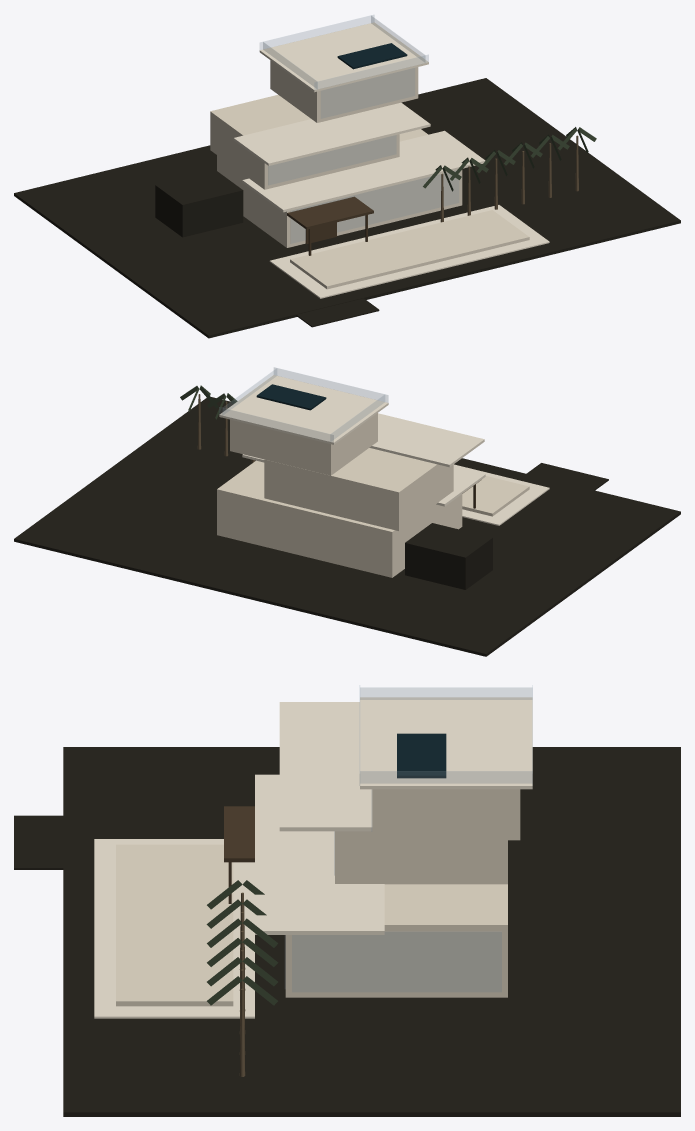
The model's file is velora-sky-palace-webgl.glb.
The picture shows the model from 3 angles, top to bottom: view 1: azimuth 30°, elevation 25°; view 2: azimuth 150°, elevation 25°; view 3: azimuth 270°, elevation 25°; orthographic projection. The views are drawn at different scales.
Visible parts, largest first — view 1: Site, Pool-Rim, Volume-02, Volume-01, Terrace-01, Terrace-02, Rooftop-Deck, Volume-03, Garage, Pool-Deck, Glass-Front-01, Glass-Front-03 (+6 smaller); view 2: Site, Volume-01, Volume-02, Rooftop-Deck, Volume-03, Garage, Terrace-02, Pool-Rim, Pool-Deck, Driveway, Rooftop-Pool, Rooftop-Railing-Rear (+3 smaller); view 3: Site, Volume-01, Pool-Rim, Rooftop-Deck, Glass-Side-01, Terrace-01, Terrace-02, Pool-Deck, Volume-02, Volume-03, Driveway, Rooftop-Pool (+7 smaller).
Part boxes in pixels (left/top/right/bottom): Site: left=14, top=78, right=680, bottom=338; Pool-Rim: left=290, top=210, right=529, bottom=289; Volume-02: left=210, top=95, right=399, bottom=189; Volume-01: left=217, top=129, right=462, bottom=247; Terrace-01: left=242, top=130, right=485, bottom=212; Terrace-02: left=233, top=102, right=430, bottom=165; Rooftop-Deck: left=259, top=22, right=428, bottom=92; Volume-03: left=270, top=60, right=418, bottom=122; Garage: left=155, top=170, right=243, bottom=237; Pool-Deck: left=269, top=205, right=549, bottom=298; Glass-Front-01: left=290, top=170, right=458, bottom=243; Glass-Front-03: left=321, top=68, right=414, bottom=118; Site: left=14, top=397, right=680, bottom=656; Volume-01: left=217, top=460, right=462, bottom=577; Volume-02: left=264, top=448, right=453, bottom=530; Rooftop-Deck: left=219, top=375, right=388, bottom=444; Volume-03: left=230, top=413, right=377, bottom=475; Garage: left=405, top=523, right=492, bottom=589; Terrace-02: left=369, top=413, right=484, bottom=467; Pool-Rim: left=462, top=476, right=529, bottom=516; Pool-Deck: left=453, top=464, right=549, bottom=525; Driveway: left=526, top=463, right=608, bottom=490; Rooftop-Pool: left=256, top=384, right=326, bottom=410; Rooftop-Railing-Rear: left=219, top=407, right=333, bottom=442; Site: left=63, top=747, right=680, bottom=1116; Volume-01: left=285, top=884, right=507, bottom=997; Pool-Rim: left=116, top=844, right=233, bottom=1006; Rooftop-Deck: left=360, top=697, right=532, bottom=789; Glass-Side-01: left=292, top=932, right=501, bottom=991; Terrace-01: left=255, top=774, right=384, bottom=934; Terrace-02: left=279, top=702, right=372, bottom=831; Pool-Deck: left=94, top=839, right=254, bottom=1018; Volume-02: left=335, top=831, right=507, bottom=884; Volume-03: left=372, top=789, right=520, bottom=840; Driveway: left=14, top=815, right=63, bottom=869; Rooftop-Pool: left=397, top=733, right=446, bottom=778.
Size of the model in its own units: 70 by 19.7 by 54.
